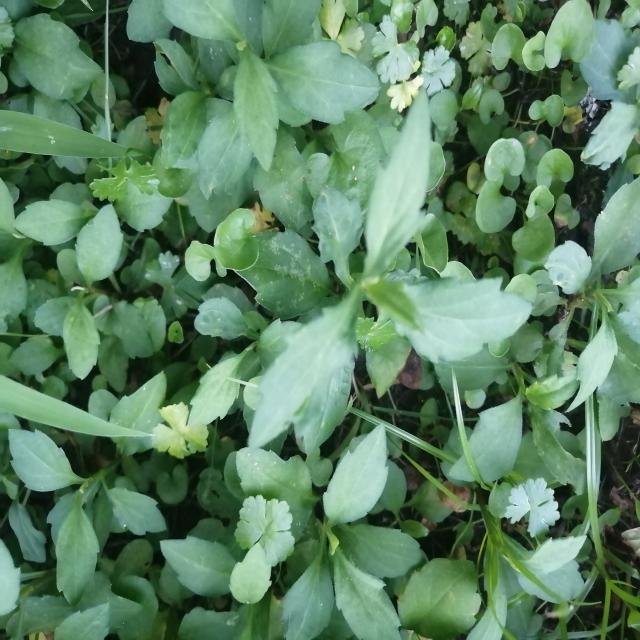Indian aster: (244, 141, 521, 426), (298, 412, 430, 640)
